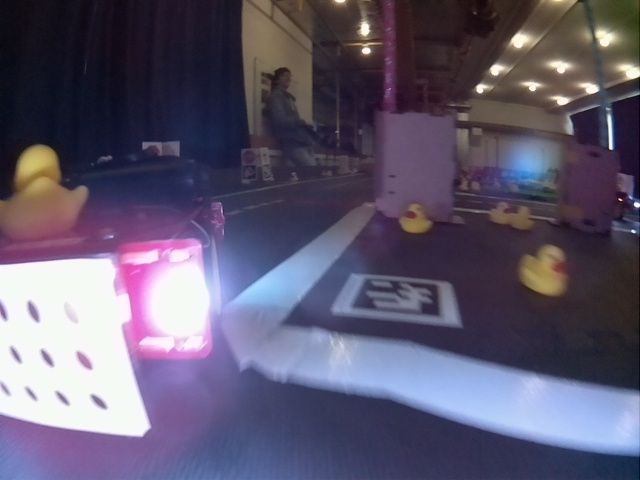Duckie: (3, 146, 87, 237), (518, 245, 566, 294), (400, 202, 431, 234), (509, 206, 532, 231)
Duckiebot: (1, 199, 224, 438)
QR code: (334, 273, 460, 325)
